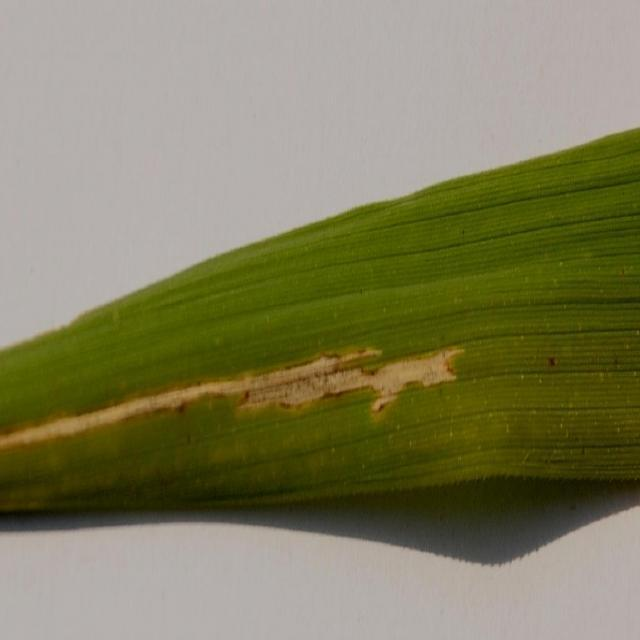Rice_Bacterial_Blight: (46, 314, 472, 446)
